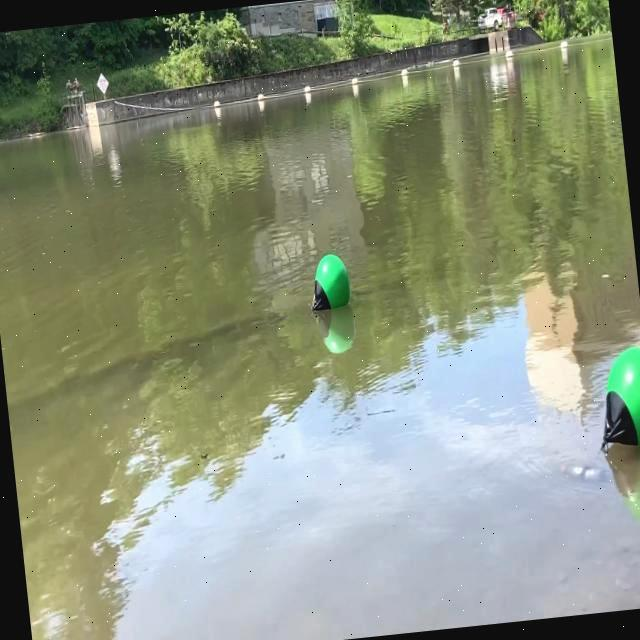buoy: (588, 339, 640, 460), (303, 249, 354, 317)
